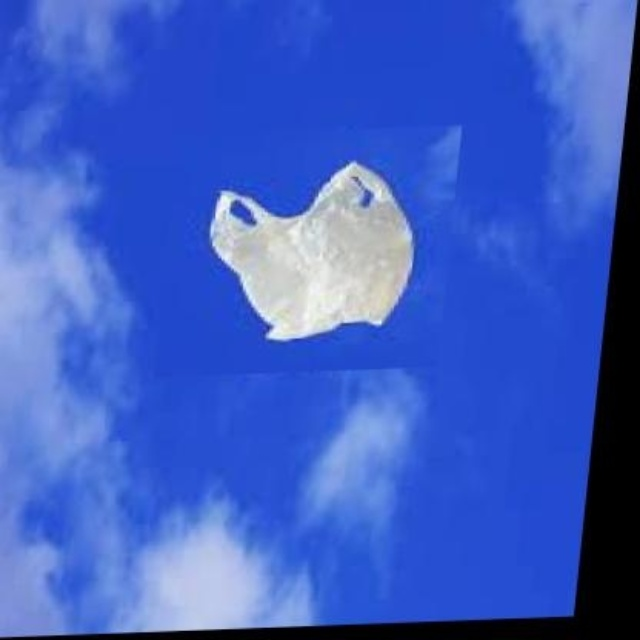trash: (211, 162, 412, 340)
